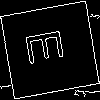E: (25, 25, 73, 67)
